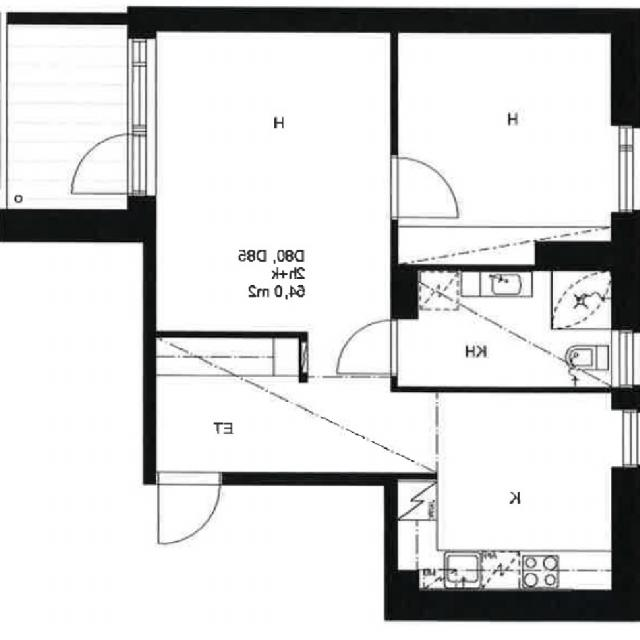door: (68, 135, 156, 193), (159, 472, 220, 546), (392, 158, 459, 217), (337, 320, 399, 374)
